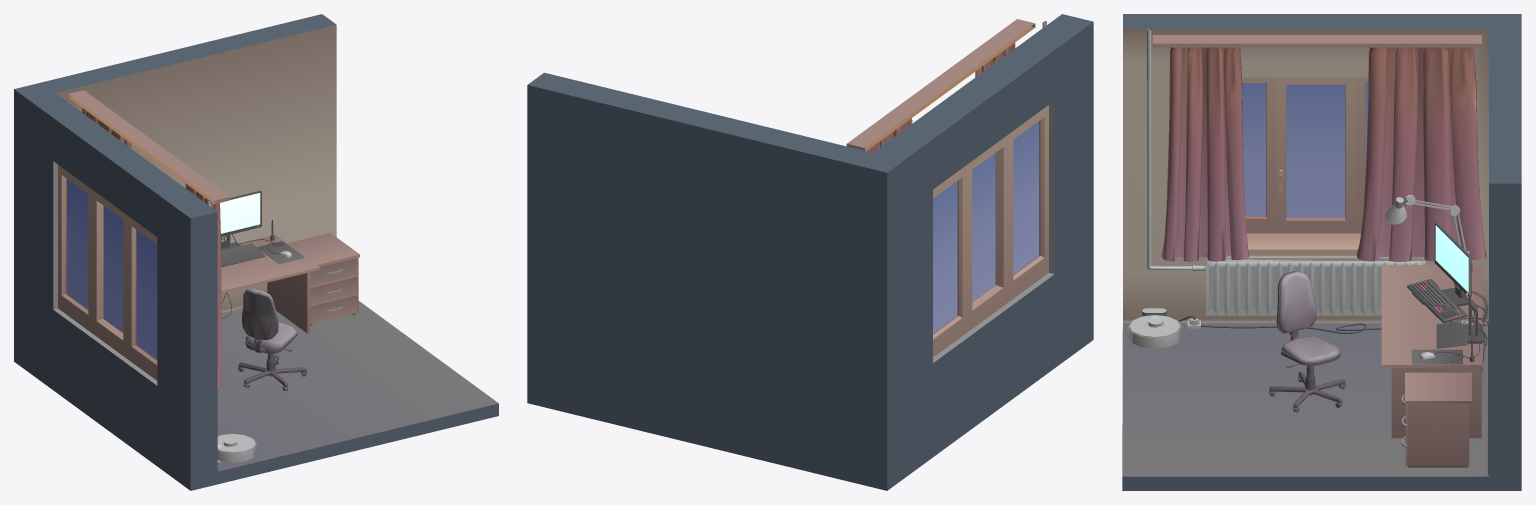
Rendered from optimized-room-draco.glb.
The picture shows the model from 3 angles, left to right: view 1: azimuth 30°, elevation 25°; view 2: azimuth 150°, elevation 25°; view 3: azimuth 270°, elevation 25°; orthographic projection. The views are drawn at different scales.
Parts seen in each view (by area): view 1: body1, window4, window, table, cabin, railing, chair_body, _________6_blinn1_0, emis, vacuum1, pillows, tablet (+1 smaller); view 2: body1, window4, window, railing; view 3: body1, _________6_blinn1_0, window4, window, radiator, table, cabin, railing, pillows, vacuum1, chair_body, radiator_blinn1_0.001 (+8 smaller).
Part boxes in pixels (box(x1,y1,x2,y2)): body1: box(14, 14, 498, 490); window4: box(66, 179, 157, 359); window: box(58, 165, 157, 380); table: box(221, 234, 319, 333); cabin: box(287, 233, 359, 325); railing: box(68, 90, 229, 204); chair_body: box(238, 290, 306, 390); _________6_blinn1_0: box(82, 108, 222, 387); emis: box(218, 193, 281, 447); vacuum1: box(217, 434, 256, 462); pillows: box(245, 289, 296, 349); tablet: box(221, 243, 265, 266); body1: box(527, 14, 1093, 490); window4: box(933, 121, 1039, 333); window: box(933, 105, 1048, 357); railing: box(846, 19, 1035, 151); body1: box(1122, 14, 1521, 490); _________6_blinn1_0: box(1161, 47, 1486, 261); window4: box(1242, 82, 1368, 217); window: box(1242, 77, 1368, 253); radiator: box(1206, 256, 1426, 315); table: box(1381, 265, 1482, 438); cabin: box(1405, 372, 1471, 467); railing: box(1152, 35, 1481, 47); pillows: box(1278, 271, 1339, 362); vacuum1: box(1128, 308, 1198, 348); chair_body: box(1269, 271, 1345, 412); radiator_blinn1_0.001: box(1147, 28, 1205, 271).
Size of the model in its own units: 6.68 by 5.66 by 6.65.
